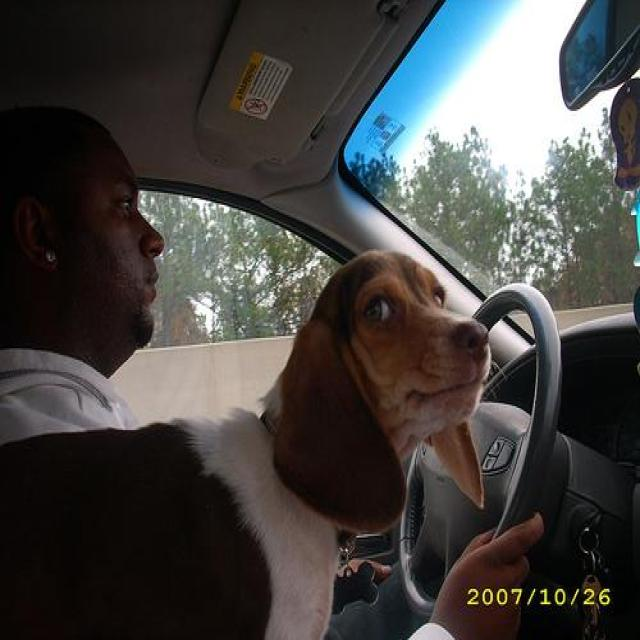beagle: (1, 247, 492, 638)
